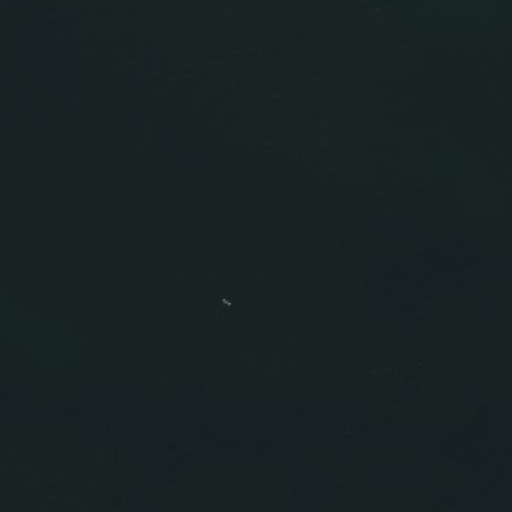ship: (220, 295, 234, 309)
